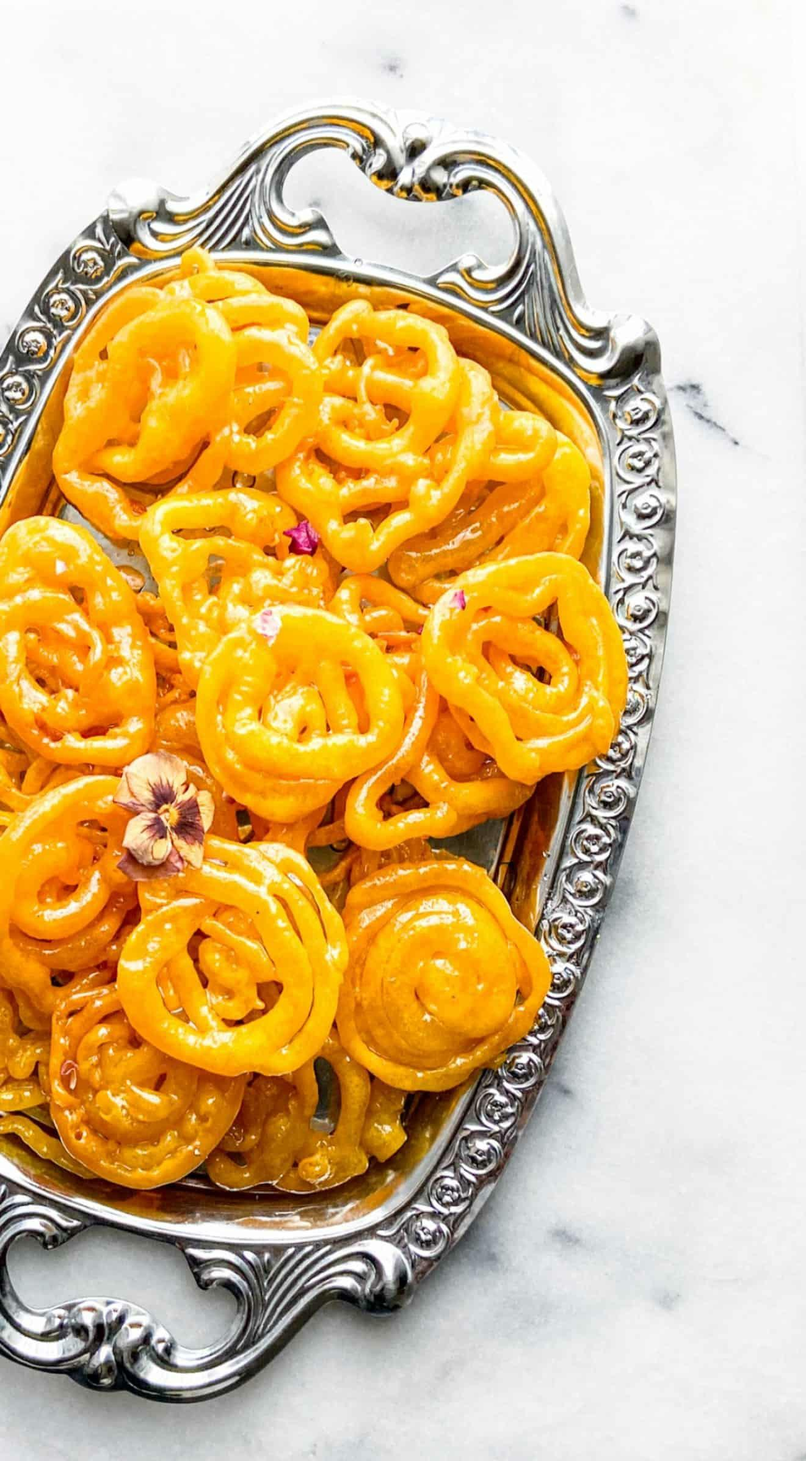Jalebi: (10, 248, 627, 1217)
